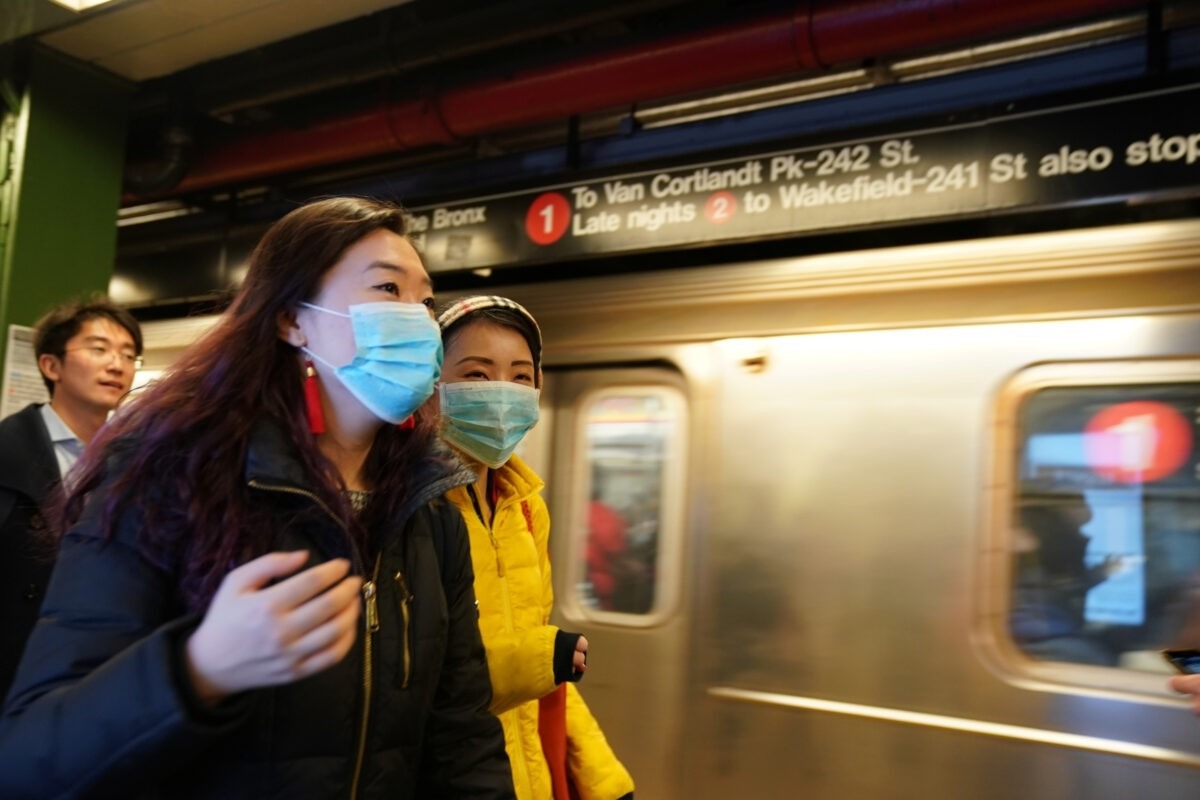face_no_mask: (31, 302, 152, 424)
face_with_mask: (273, 236, 457, 444), (428, 291, 550, 477)
